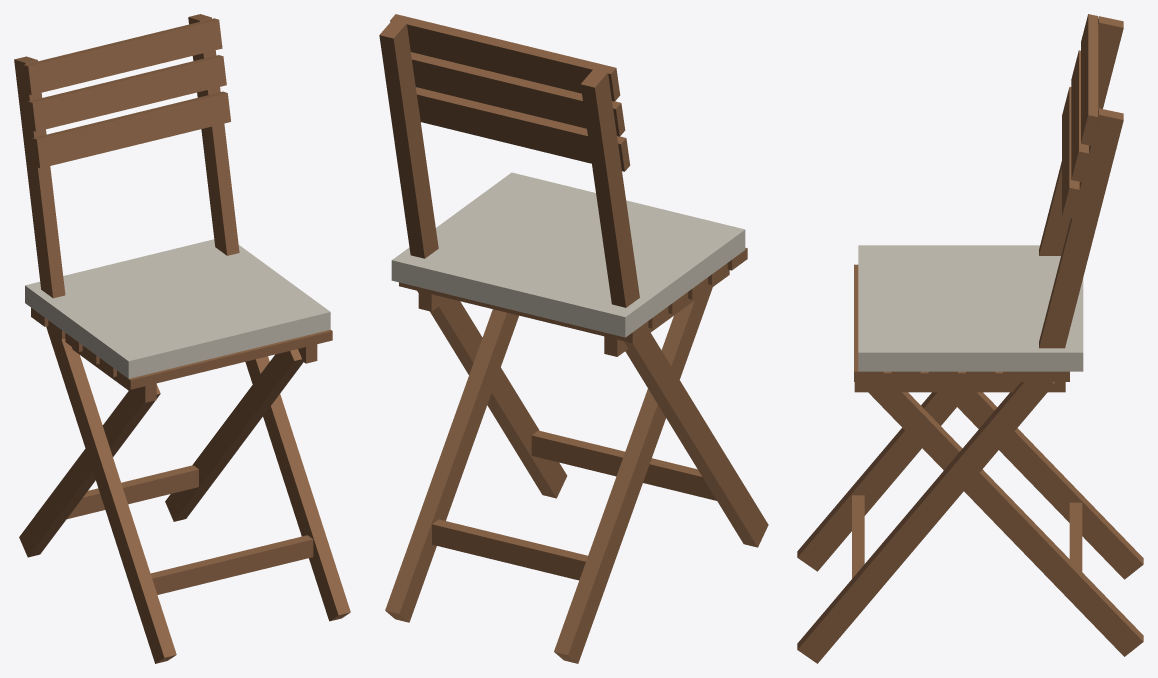
File: cushion.glb
3 renders of one model, left to right at view 1: azimuth 30°, elevation 25°; view 2: azimuth 150°, elevation 25°; view 3: azimuth 270°, elevation 25°, orthographic. The views are drawn at different scales.
Visible parts, largest first — view 1: Wood, Cushion; view 2: Wood, Cushion; view 3: Wood, Cushion.
Boxes of the visible parts, x1=… form: Wood: x1=14, y1=14, x2=350, y2=663; Cushion: x1=25, y1=239, x2=330, y2=378; Wood: x1=379, y1=14, x2=768, y2=663; Cushion: x1=391, y1=172, x2=745, y2=337; Wood: x1=797, y1=14, x2=1143, y2=663; Cushion: x1=858, y1=245, x2=1083, y2=371.
Bounding box in the file's own units: 0.36 × 0.8635 × 0.4918.
